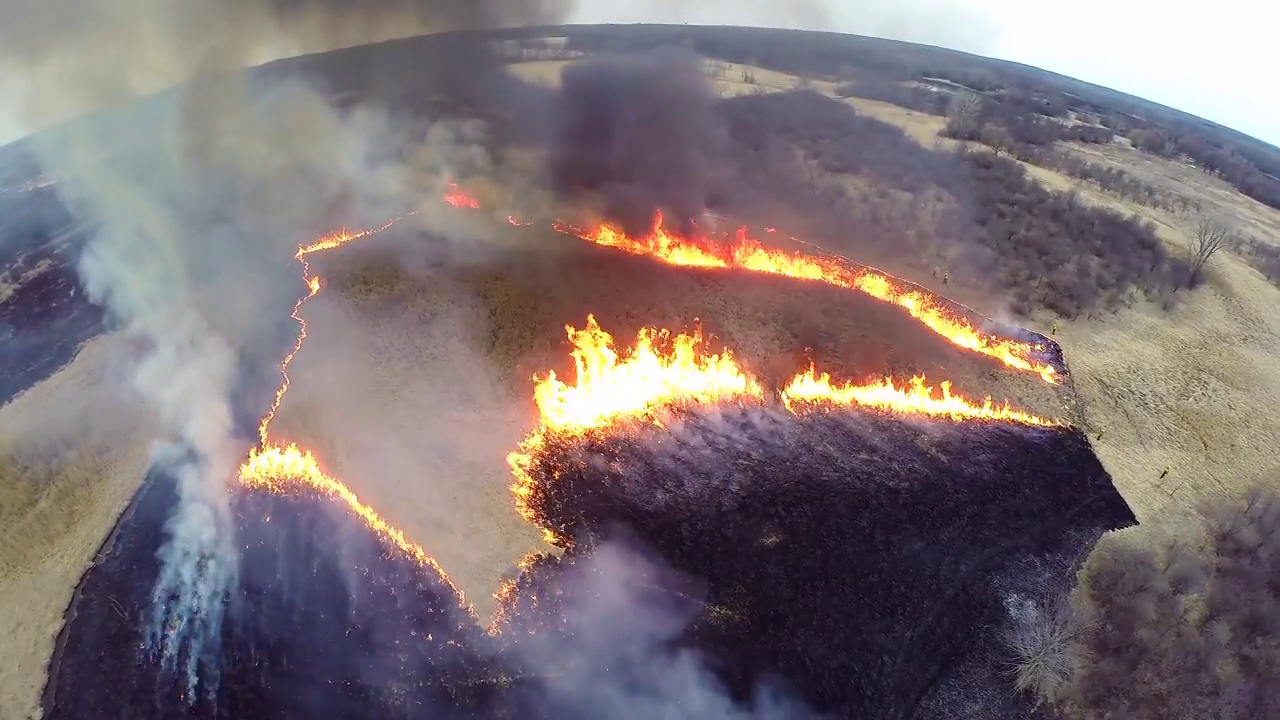forest_fire: (555, 213, 1064, 383), (239, 221, 437, 566), (506, 314, 765, 519), (778, 365, 1060, 425), (490, 577, 518, 631), (445, 188, 478, 206)
